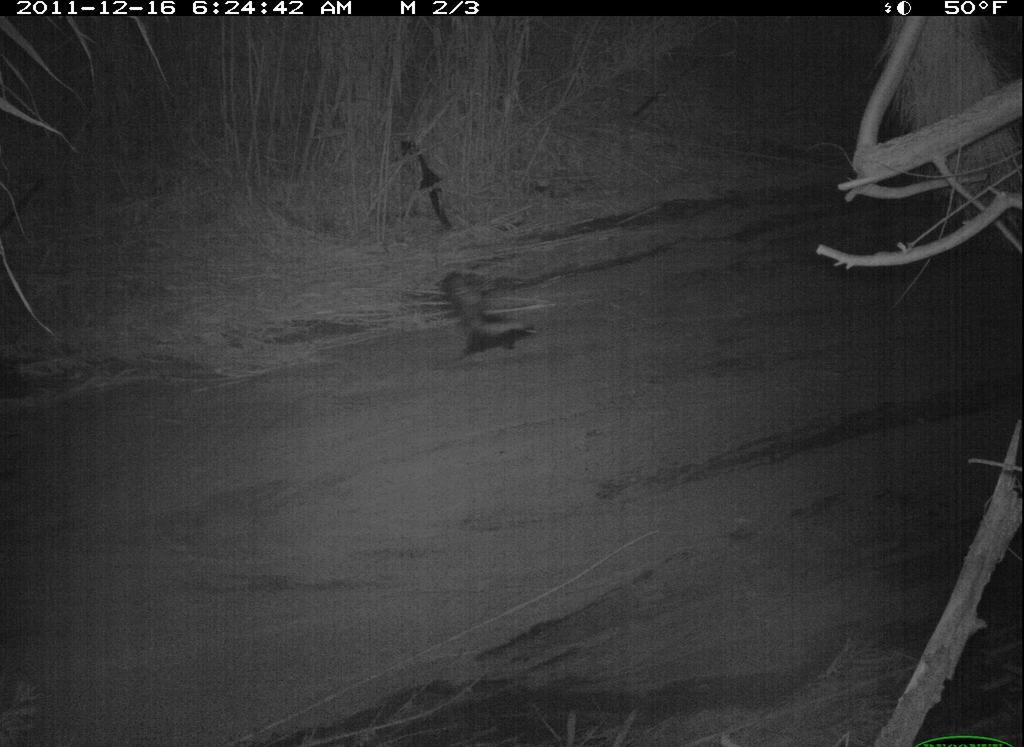skunk: (440, 268, 547, 370)
